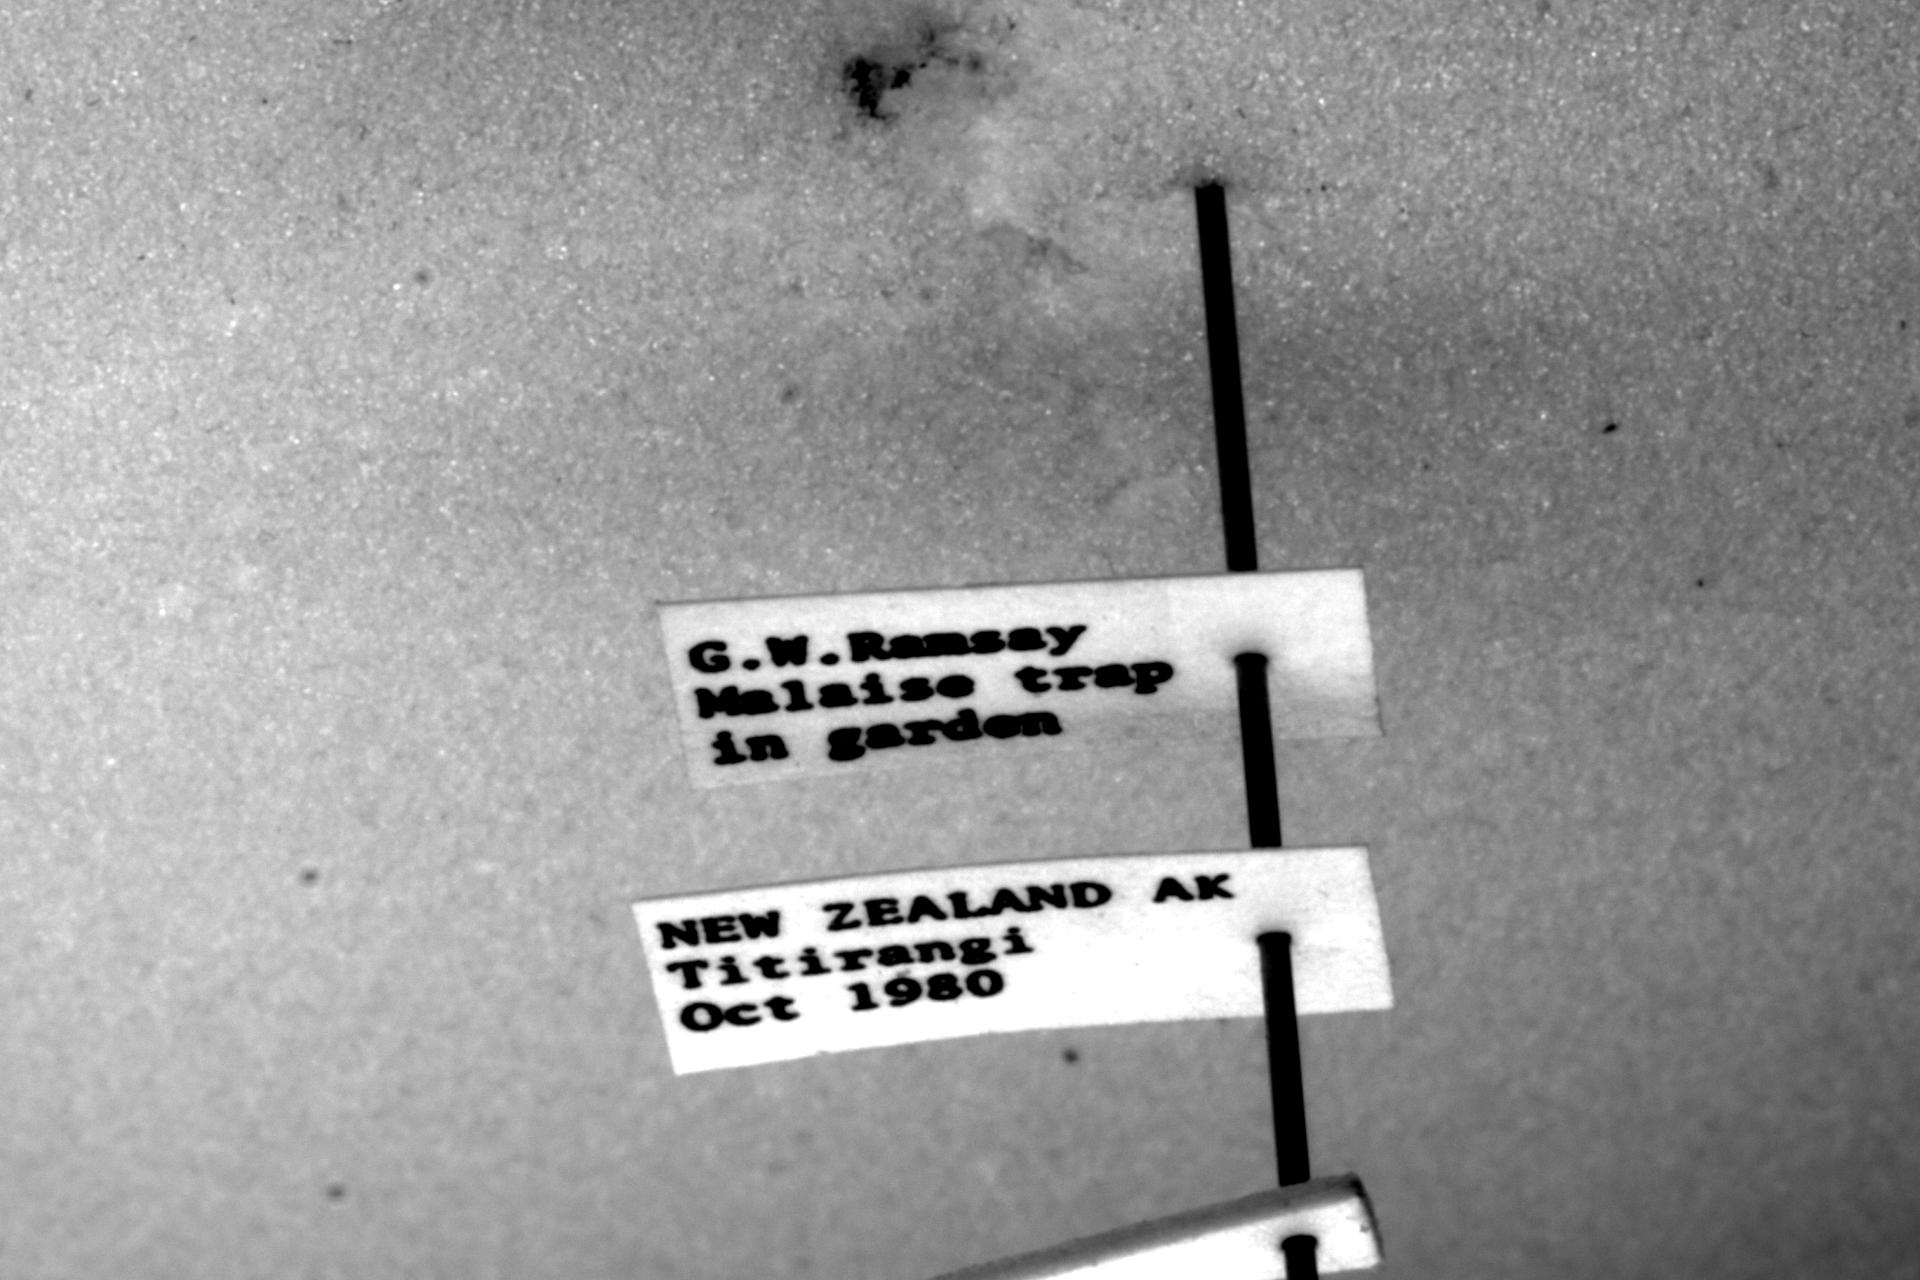typed_label: (634, 847, 1391, 1073), (660, 566, 1380, 787)
